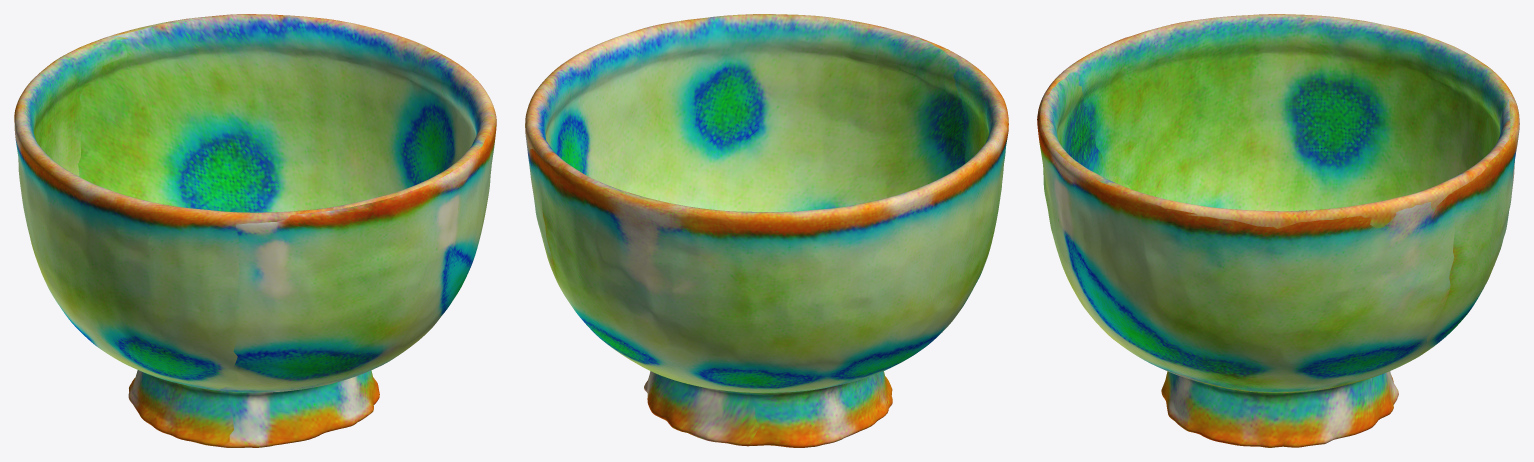
File: paint-it.glb
The picture shows the model from 3 angles, left to right: view 1: azimuth 30°, elevation 25°; view 2: azimuth 150°, elevation 25°; view 3: azimuth 270°, elevation 25°; orthographic projection.
Parts seen in each view (by area): view 1: mesh; view 2: mesh; view 3: mesh.
Part boxes in pixels (bbox=[...]): mesh: bbox=[14, 14, 496, 447]; mesh: bbox=[525, 14, 1008, 447]; mesh: bbox=[1037, 14, 1519, 447].
Size of the model in its own units: 2 by 1.3 by 2.
Materials: 1 (1 with a texture image).
